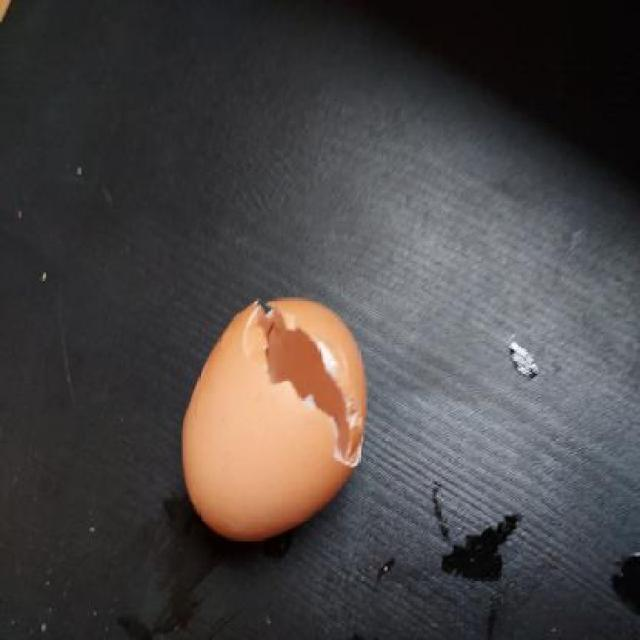biodegradable: (174, 296, 372, 547)
